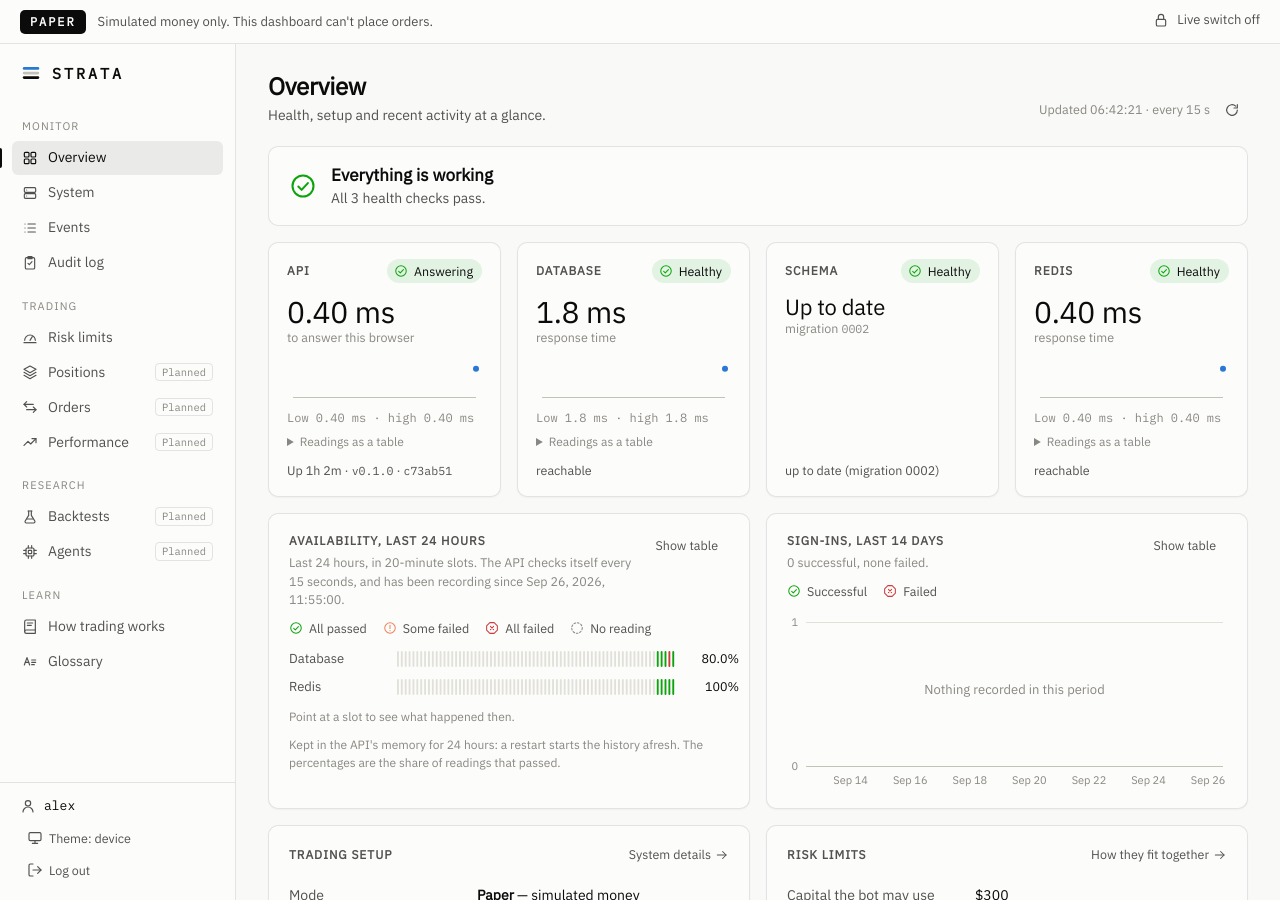
Test: while logged in › stays logged in, and says so, when logging out fails
Click the button "Log out" at (59, 870), box [16,856,101,884]
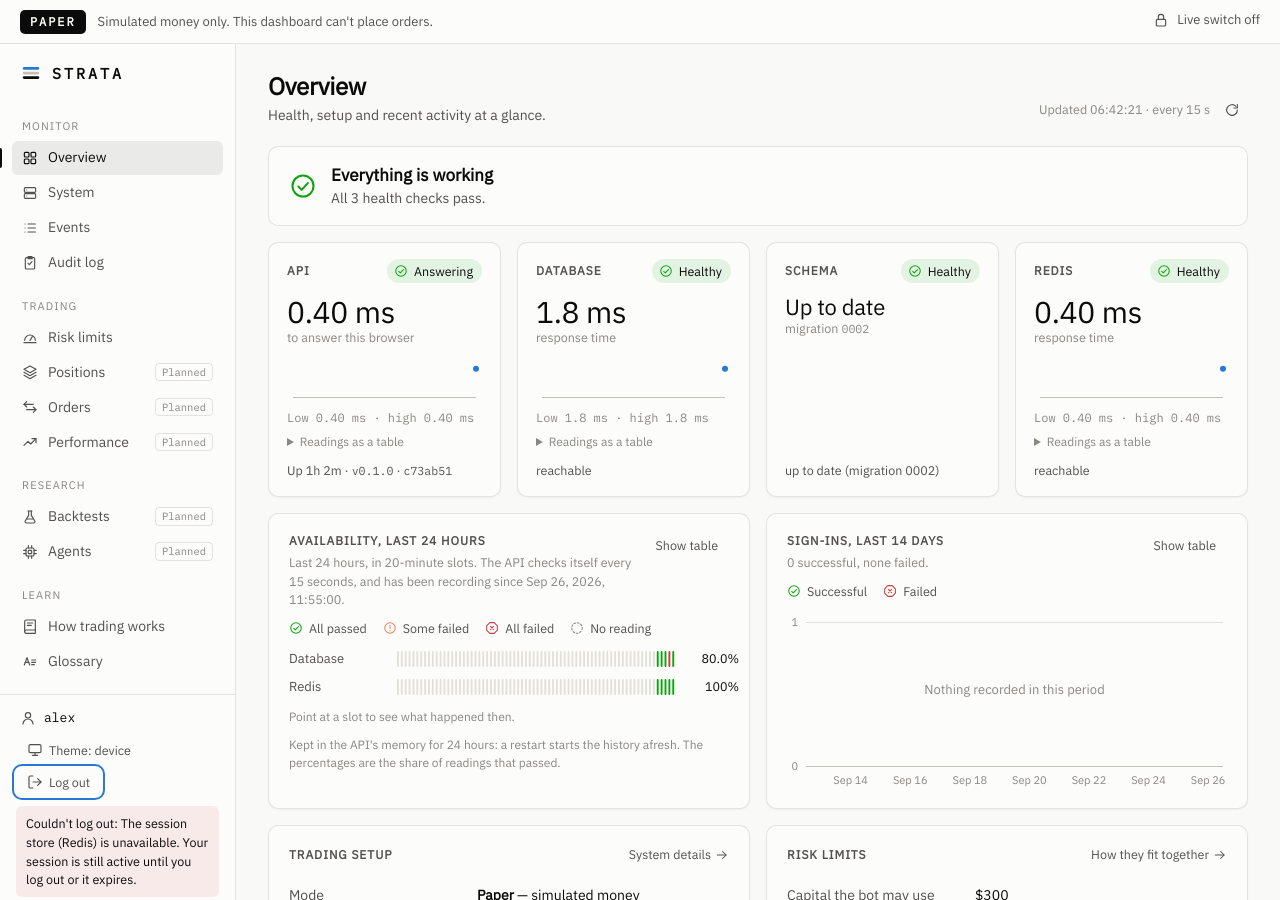
Check: the heading "Overview" is shown, box [268,70,366,102]
Check: the text "Couldn't log out: The session store (Redis) is unavailable" is shown, box [26,815,208,887]
